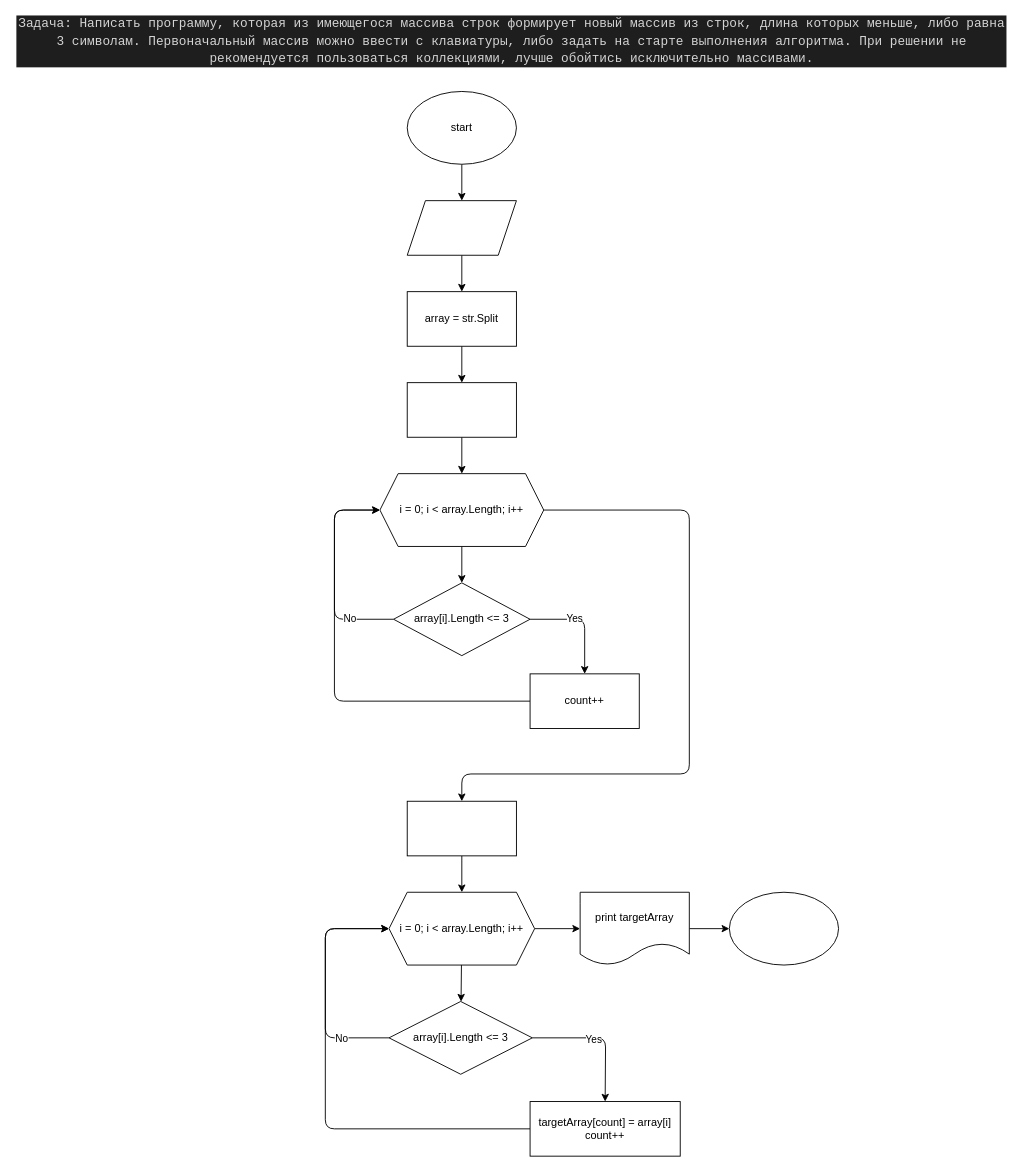
The diagram is 1023 pixels wide and 1172 high, and some of its shapes have lost their labels. Here are the shapes that lost their labels. From the top down, the centre of each, then its label:
point (461, 227): str
point (461, 409): count = 0
point (461, 828): targetArray count = 0
point (783, 928): end
